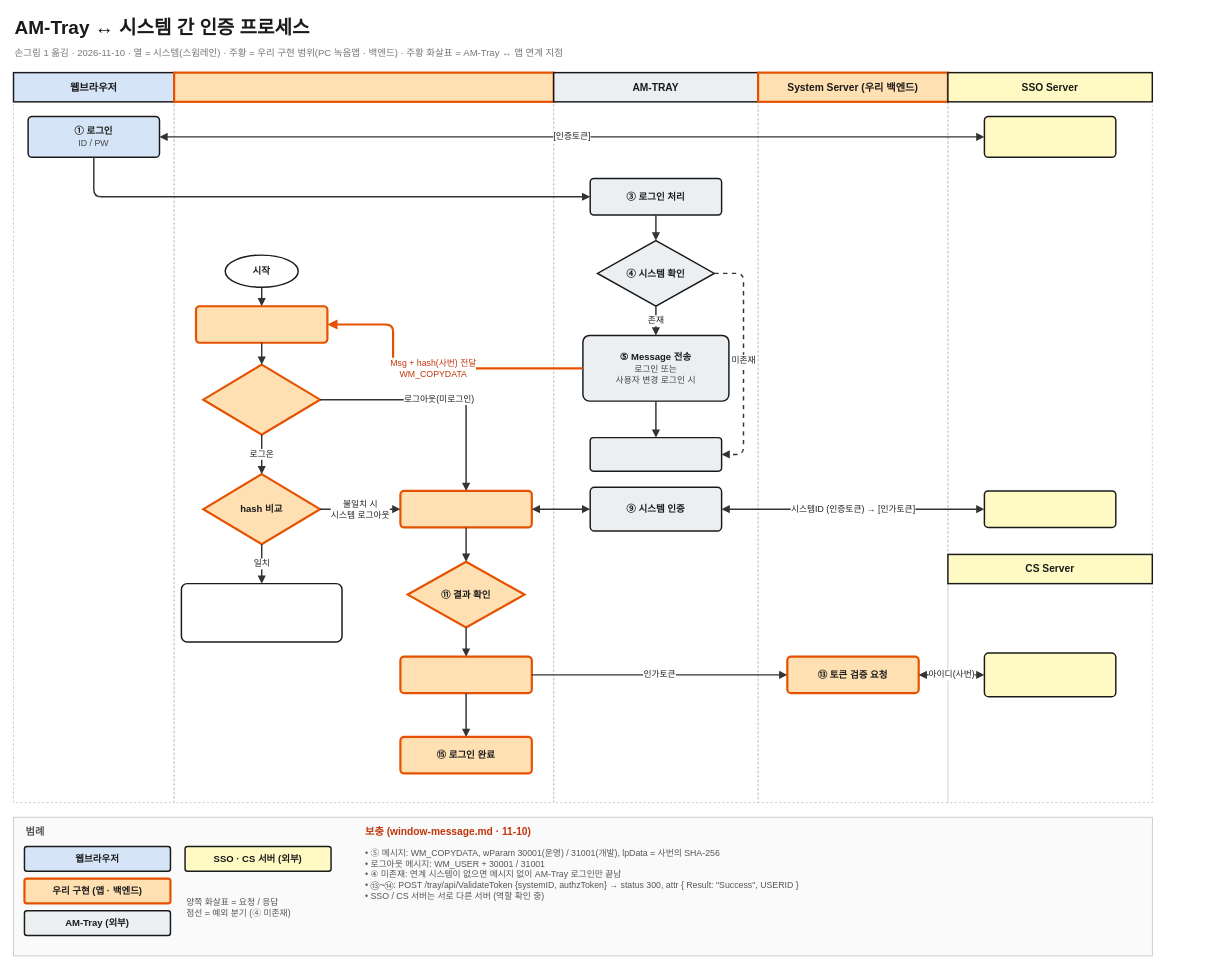
Some shapes in this 1230 by 969 pixel diagram are drawn without their labels. Here are the shapes that lost their labels. From the top down, the centre of each, then its label:
pixel 363 87: System Client (AI 회의록 = PC 녹음앱)
pixel 1049 136: ② 사용자 인증
pixel 261 324: ⑥ Msg 수신
pixel 261 399: ⑦ 로그인 상태
pixel 655 454: 로그인 완료
pixel 466 508: ⑧ 토큰 요청
pixel 1049 509: ⑩ 인가토큰 발행
pixel 261 612: 종료 로그인 상태 유지 ※ 원본 메모: DRM 로그인 상태 유지
pixel 466 674: ⑫ 토큰 인증
pixel 1049 674: ⑭ 인가토큰 검증 시스템ID, 인가토큰
